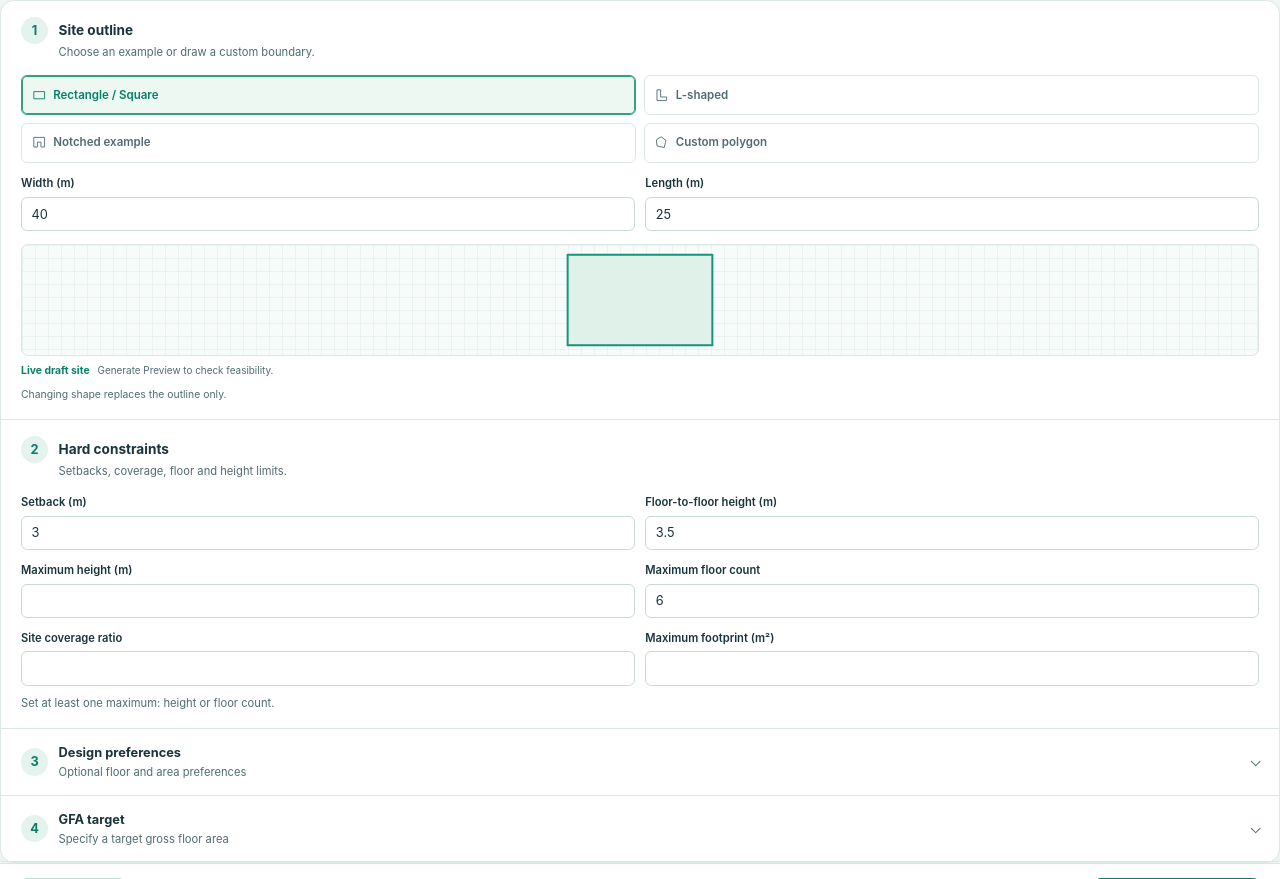
Test case: ConfigurationForm › removes the live outline immediately for invalid Width (m)=
This screenshot has width=1280, height=879.
Check: the picture named "Draft site preview" is shown, box [21,244,1259,356]
Clear the field labelled "Width (m)" at (328, 214), box [21,197,635,231]
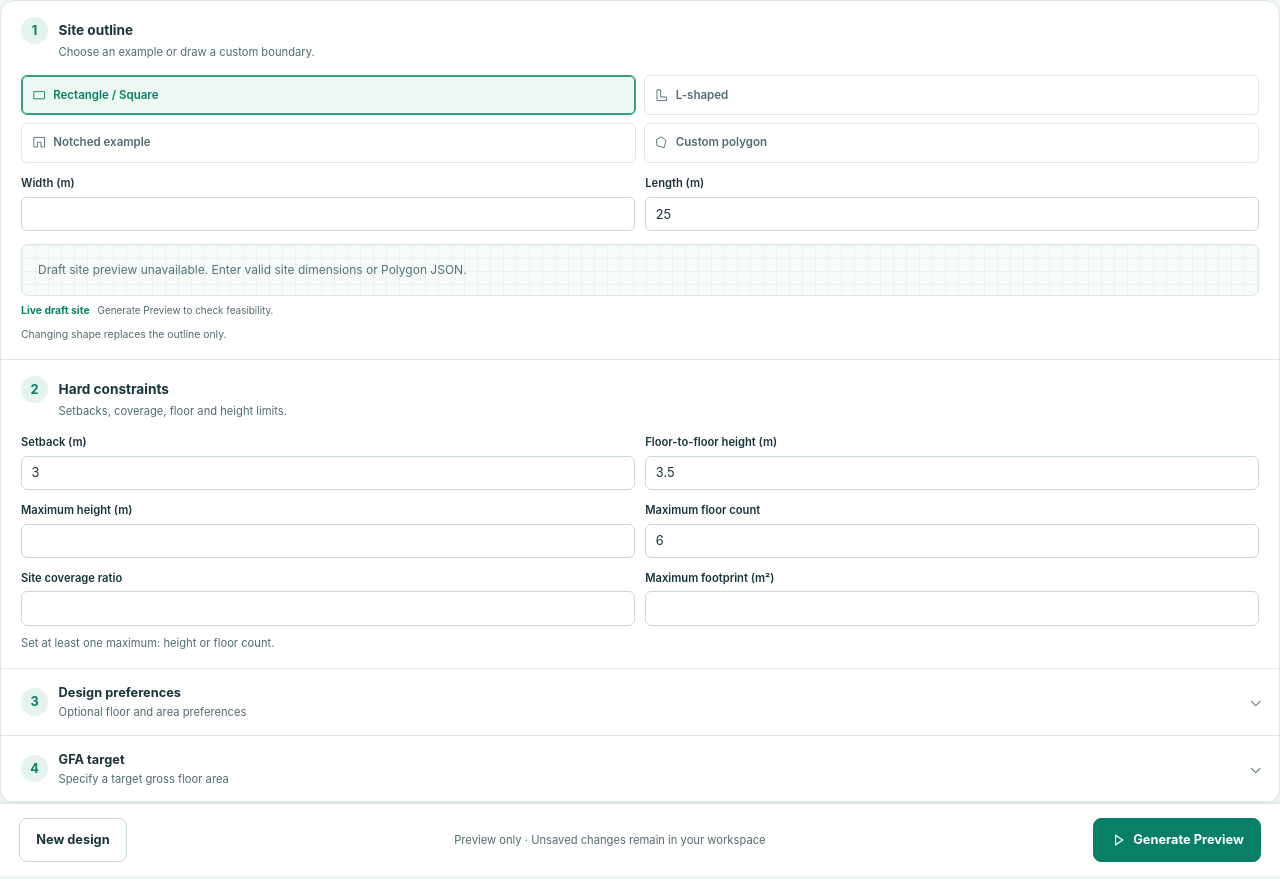
Check: the text "Draft site preview unavailable. Enter valid site dimensions or Polygon JSON." is shown, box [21,244,1259,296]
